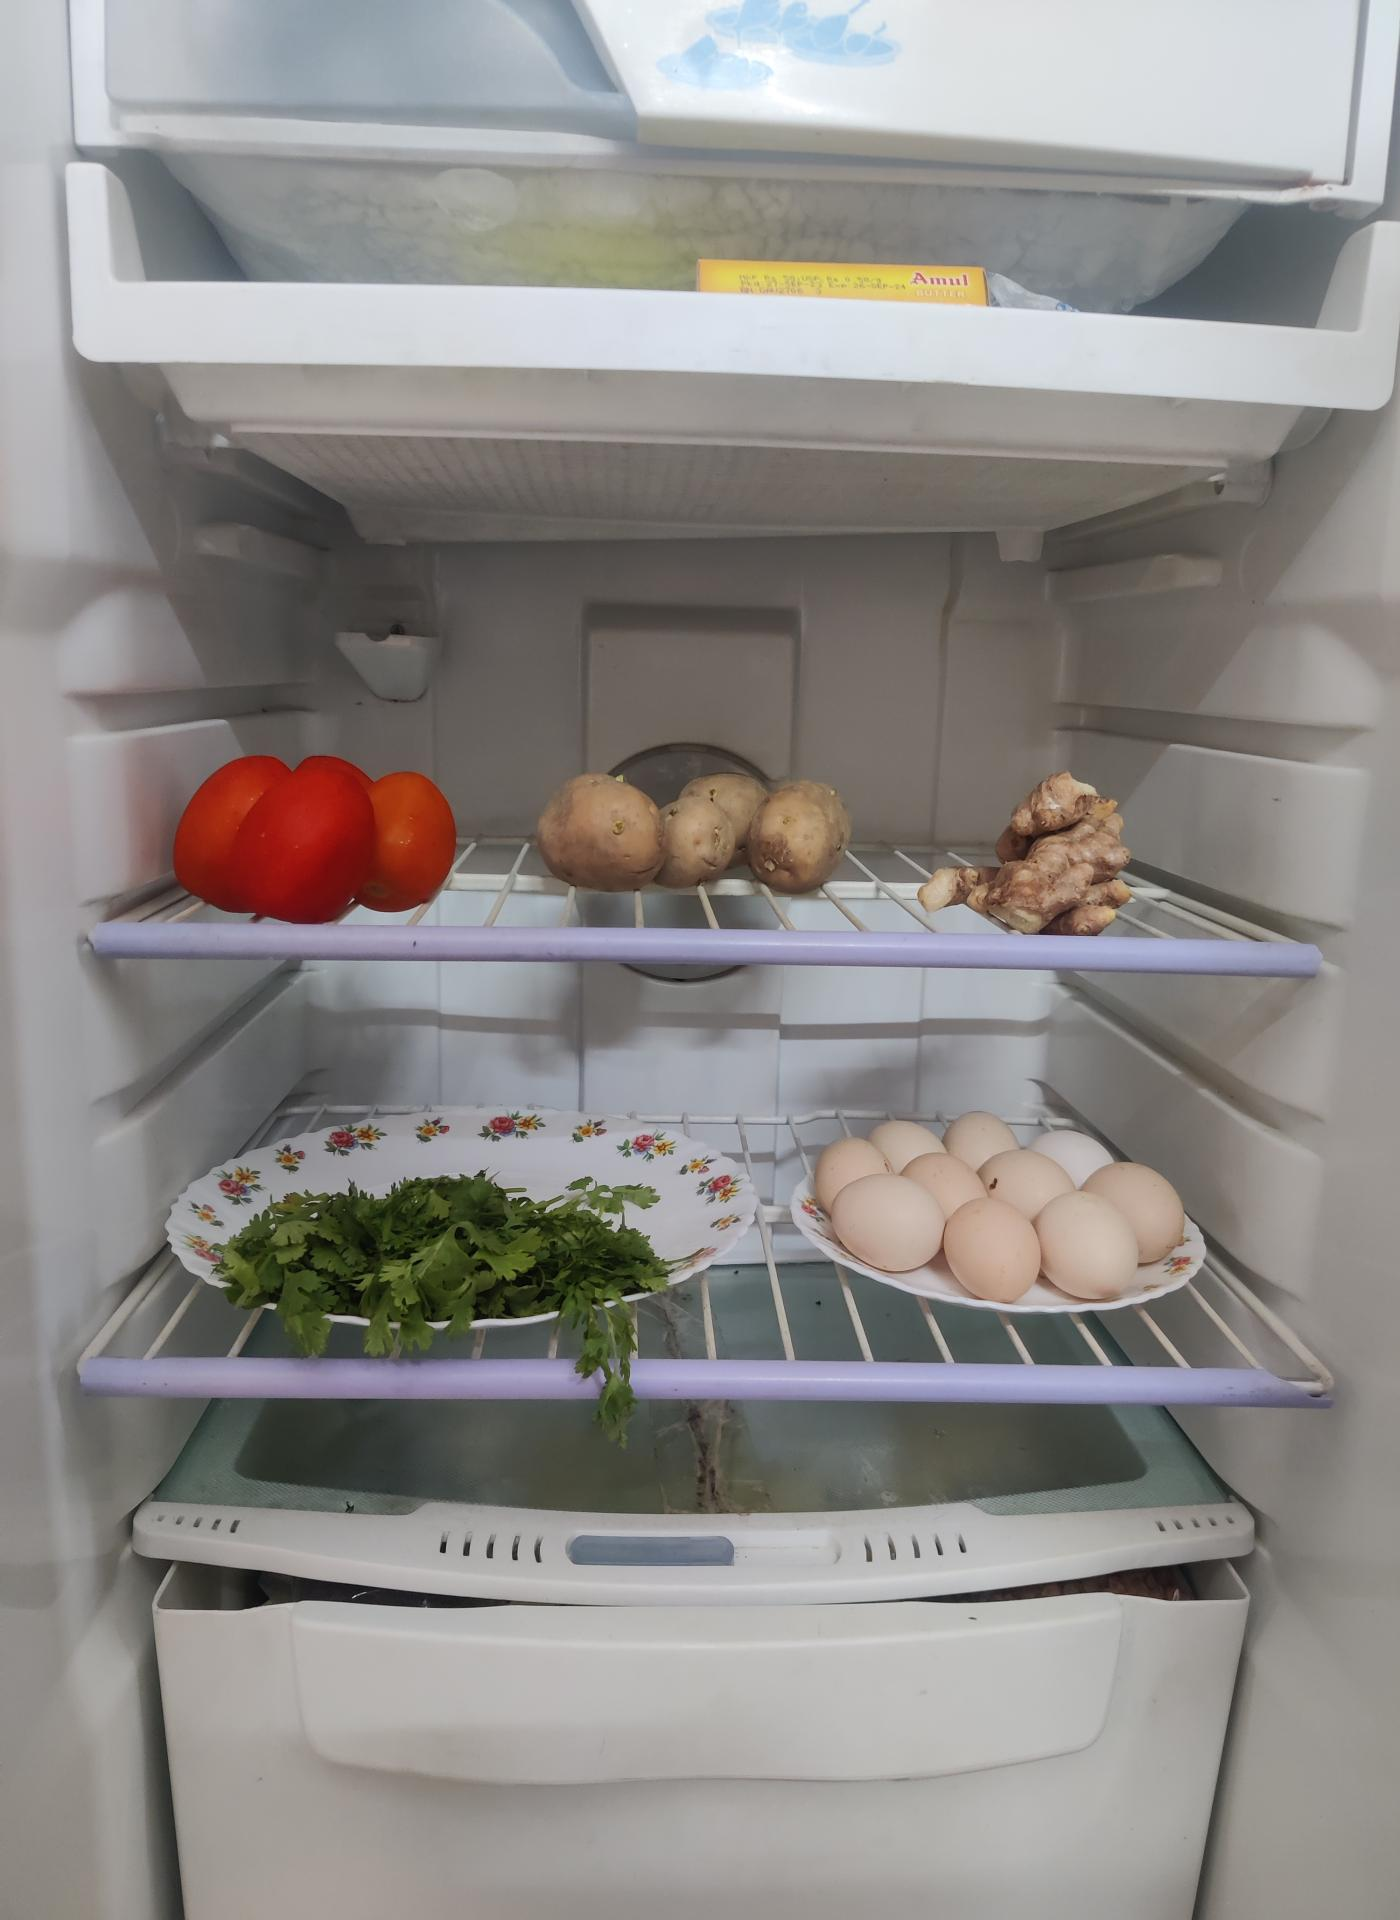coriander: (207, 1181, 681, 1343)
egg: (801, 1117, 1179, 1319)
ginger: (932, 765, 1139, 935)
potato: (540, 765, 854, 900)
tomato: (174, 753, 459, 923)
